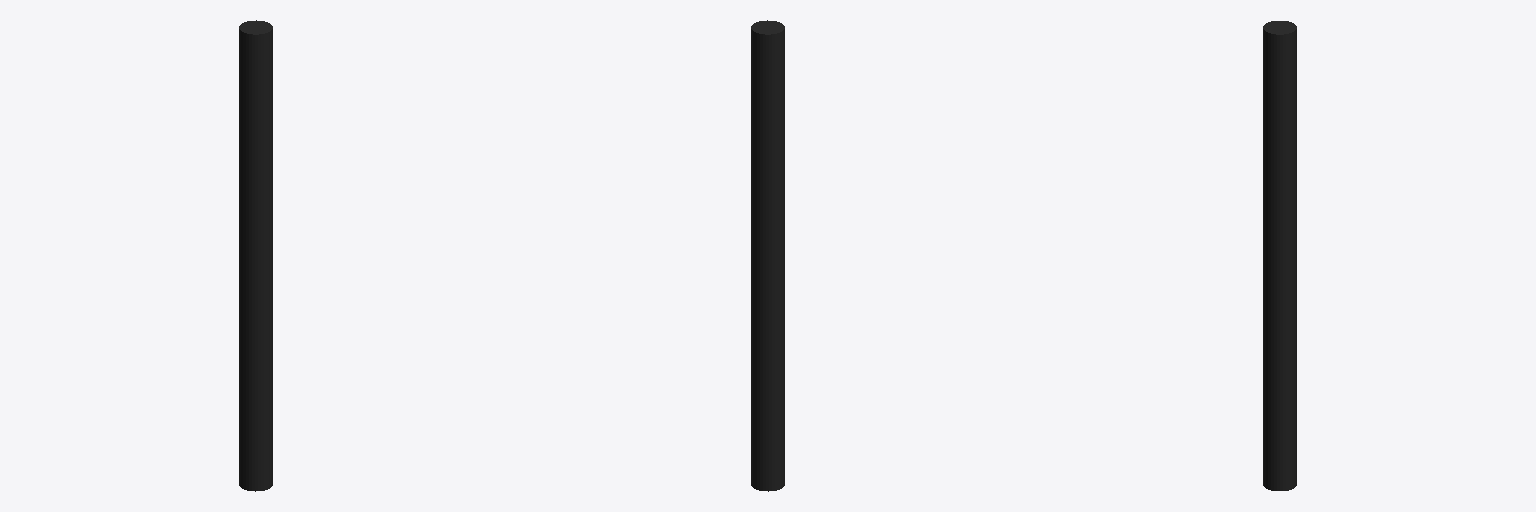
URDF robot description (lbr_iiwa):
<?xml version="1.0" ?>
<!-- ======================================================================= -->
<!-- | This document was autogenerated by xacro from lbr_iiwa.urdf.xacro   | -->
<!-- | Original xacro: https://github.com/rtkg/lbr_iiwa/archive/master.zip | -->
<!-- | EDITING THIS FILE BY HAND IS NOT RECOMMENDED                        | -->
<!-- | Changes ([author]):                                                 | -->
<!-- |   * Removed gazebo tags.                                            | -->
<!-- |   * Removed unused materials.                                       | -->
<!-- |   * Made mesh paths relative.                                       | -->
<!-- |   * Removed material fields from collision segments.                | -->
<!-- |   * Removed the self_collision_checking segment.                    | -->
<!-- |   * Removed transmission segments, since they didn't match the      | -->
<!-- |     convention, will have to added back later.                      | -->
<!-- ======================================================================= -->
<!--LICENSE:                                                                 -->
<!--Copyright (c) 2015, [author] & [author], AASS Research Center,  -->
<!--Orebro University, Sweden                                                -->
<!--All rights reserved.                                                     -->
<!--                                                                         -->
<!--Redistribution and use in source and binary forms, with or without       -->
<!--modification, are permitted provided that the following conditions are   -->
<!--met:                                                                     -->
<!--                                                                         -->
<!--1. Redistributions of source code must retain the above copyright notice,-->
<!--   this list of conditions and the following disclaimer.                 -->
<!--                                                                         -->
<!--2. Redistributions in binary form must reproduce the above copyright     -->
<!--   notice, this list of conditions and the following disclaimer in the   -->
<!--   documentation and/or other materials provided with the distribution.  -->
<!--                                                                         -->
<!--THIS SOFTWARE IS PROVIDED BY THE COPYRIGHT [author] "AS  -->
<!--IS" AND ANY EXPRESS OR IMPLIED WARRANTIES, INCLUDING, BUT NOT LIMITED TO,-->
<!--THE IMPLIED WARRANTIES OF MERCHANTABILITY AND FITNESS FOR A PARTICULAR   -->
<!--PURPOSE ARE DISCLAIMED. IN NO EVENT SHALL THE COPYRIGHT [author]        -->
<!--CONTRIBUTORS BE LIABLE FOR ANY DIRECT, INDIRECT, INCIDENTAL, SPECIAL,    -->
<!--EXEMPLARY, OR CONSEQUENTIAL DAMAGES (INCLUDING, BUT NOT LIMITED TO,      -->
<!--PROCUREMENT OF SUBSTITUTE GOODS OR SERVICES; LOSS OF USE, DATA, OR       -->
<!--PROFITS; OR BUSINESS INTERRUPTION) HOWEVER CAUSED AND ON ANY THEORY OF   -->
<!--LIABILITY, WHETHER IN CONTRACT, STRICT LIABILITY, OR TORT (INCLUDING     -->
<!--NEGLIGENCE OR OTHERWISE) ARISING IN ANY WAY OUT OF THE USE OF THIS       -->
<!--SOFTWARE, EVEN IF ADVISED OF THE POSSIBILITY OF SUCH DAMAGE.             -->
<robot name="lbr_iiwa" xmlns:xacro="http://www.ros.org/wiki/xacro">
  <!-- Import Rviz colors -->
  <material name="Grey">
    <color rgba="0.2 0.2 0.2 1.0"/>
  </material>
  <material name="Orange">
    <color rgba="1.0 0.423529411765 0.0392156862745 1.0"/>
  </material>
  <material name="Blue">
  <color rgba="0.5 0.7 1.0 1.0"/>
</material>

  <!--Import the lbr iiwa macro -->
  <!--Import Transmissions -->
  <!--Include Utilities -->
  <!--The following macros are adapted from the LWR 4 definitions of the RCPRG - https://github.com/RCPRG-ros-pkg/lwr_robot -->
  <!--Little helper macros to define the inertia matrix needed for links.-->
  <!--Cuboid-->
  <!--Cylinder: length is along the y-axis! -->
  <!--lbr-->
  <link name="lbr_iiwa_link_0">
    <inertial>
      <origin rpy="0 0 0" xyz="-0.1 0 0.07"/>
      <!--Increase mass from 5 Kg original to provide a stable base to carry the
          arm.-->
      <mass value="0.0"/>
      <inertia ixx="0.05" ixy="0" ixz="0" iyy="0.06" iyz="0" izz="0.03"/>
    </inertial>
    <visual>
      <origin rpy="0 0 0" xyz="0 0 0"/>
      <geometry>
        <mesh filename="meshes/link_0.obj"/>
      </geometry>
      <material name="Grey"/>
    </visual>
    <collision>
      <origin rpy="0 0 0" xyz="0 0 0"/>
      <geometry>
        <mesh filename="meshes/link_0.stl"/>
      </geometry>
    </collision>
  </link>
  <!-- joint between link_0 and link_1 -->
  <joint name="lbr_iiwa_joint_1" type="revolute">
    <parent link="lbr_iiwa_link_0"/>
    <child link="lbr_iiwa_link_1"/>
    <origin rpy="0 0 0" xyz="0 0 0.1575"/>
    <axis xyz="0 0 1"/>
    <limit effort="300" lower="-2.96705972839" upper="2.96705972839" velocity="10"/>
    <dynamics damping="0.5"/>
  </joint>
  <link name="lbr_iiwa_link_1">
    <inertial>
      <origin rpy="0 0 0" xyz="0 -0.03 0.12"/>
      <mass value="4"/>
      <inertia ixx="0.1" ixy="0" ixz="0" iyy="0.09" iyz="0" izz="0.02"/>
    </inertial>
    <visual>
      <origin rpy="0 0 0" xyz="0 0 0"/>
      <geometry>
        <mesh filename="meshes/link_1.obj"/>
      </geometry>
      <material name="Blue"/>
    </visual>
    <collision>
      <origin rpy="0 0 0" xyz="0 0 0"/>
      <geometry>
        <mesh filename="meshes/link_1.stl"/>
      </geometry>
    </collision>
  </link>
  <!-- joint between link_1 and link_2 -->
  <joint name="lbr_iiwa_joint_2" type="revolute">
    <parent link="lbr_iiwa_link_1"/>
    <child link="lbr_iiwa_link_2"/>
    <origin rpy="1.57079632679   0 3.14159265359" xyz="0 0 0.2025"/>
    <axis xyz="0 0 1"/>
    <limit effort="300" lower="-2.09439510239" upper="2.09439510239" velocity="10"/>
    <dynamics damping="0.5"/>
  </joint>
  <link name="lbr_iiwa_link_2">
    <inertial>
      <origin rpy="0 0 0" xyz="0.0003 0.059 0.042"/>
      <mass value="4"/>
      <inertia ixx="0.05" ixy="0" ixz="0" iyy="0.018" iyz="0" izz="0.044"/>
    </inertial>
    <visual>
      <origin rpy="0 0 0" xyz="0 0 0"/>
      <geometry>
        <mesh filename="meshes/link_2.obj"/>
      </geometry>
      <material name="Blue"/>
    </visual>
    <collision>
      <origin rpy="0 0 0" xyz="0 0 0"/>
      <geometry>
        <mesh filename="meshes/link_2.stl"/>
      </geometry>
    </collision>
  </link>
  <!-- joint between link_2 and link_3 -->
  <joint name="lbr_iiwa_joint_3" type="revolute">
    <parent link="lbr_iiwa_link_2"/>
    <child link="lbr_iiwa_link_3"/>
    <origin rpy="1.57079632679 0 3.14159265359" xyz="0 0.2045 0"/>
    <axis xyz="0 0 1"/>
    <limit effort="300" lower="-2.96705972839" upper="2.96705972839" velocity="10"/>
    <dynamics damping="0.5"/>
  </joint>
  <link name="lbr_iiwa_link_3">
    <inertial>
      <origin rpy="0 0 0" xyz="0 0.03 0.13"/>
      <mass value="3"/>
      <inertia ixx="0.08" ixy="0" ixz="0" iyy="0.075" iyz="0" izz="0.01"/>
    </inertial>
    <visual>
      <origin rpy="0 0 0" xyz="0 0 0"/>
      <geometry>
        <mesh filename="meshes/link_3.obj"/>
      </geometry>
      <material name="Orange"/>
    </visual>
    <collision>
      <origin rpy="0 0 0" xyz="0 0 0"/>
      <geometry>
        <mesh filename="meshes/link_3.stl"/>
      </geometry>
    </collision>
  </link>
  <!-- joint between link_3 and link_4 -->
  <joint name="lbr_iiwa_joint_4" type="revolute">
    <parent link="lbr_iiwa_link_3"/>
    <child link="lbr_iiwa_link_4"/>
    <origin rpy="1.57079632679 0 0" xyz="0 0 0.2155"/>
    <axis xyz="0 0 1"/>
    <limit effort="300" lower="-2.09439510239" upper="2.09439510239" velocity="10"/>
    <dynamics damping="0.5"/>
  </joint>
  <link name="lbr_iiwa_link_4">
    <inertial>
      <origin rpy="0 0 0" xyz="0 0.067 0.034"/>
      <mass value="2.7"/>
      <inertia ixx="0.03" ixy="0" ixz="0" iyy="0.01" iyz="0" izz="0.029"/>
    </inertial>
    <visual>
      <origin rpy="0 0 0" xyz="0 0 0"/>
      <geometry>
        <mesh filename="meshes/link_4.obj"/>
      </geometry>
      <material name="Blue"/>
    </visual>
    <collision>
      <origin rpy="0 0 0" xyz="0 0 0"/>
      <geometry>
        <mesh filename="meshes/link_4.stl"/>
      </geometry>
    </collision>
  </link>
  <!-- joint between link_4 and link_5 -->
  <joint name="lbr_iiwa_joint_5" type="revolute">
    <parent link="lbr_iiwa_link_4"/>
    <child link="lbr_iiwa_link_5"/>
    <origin rpy="-1.57079632679 3.14159265359 0" xyz="0 0.1845 0"/>
    <axis xyz="0 0 1"/>
    <limit effort="300" lower="-2.96705972839" upper="2.96705972839" velocity="10"/>
    <dynamics damping="0.5"/>
  </joint>
  <link name="lbr_iiwa_link_5">
    <inertial>
      <origin rpy="0 0 0" xyz="0.0001 0.021 0.076"/>
      <mass value="1.7"/>
      <inertia ixx="0.02" ixy="0" ixz="0" iyy="0.018" iyz="0" izz="0.005"/>
    </inertial>
    <visual>
      <origin rpy="0 0 0" xyz="0 0 0"/>
      <geometry>
        <mesh filename="meshes/link_5.obj"/>
      </geometry>
      <material name="Blue"/>
    </visual>
    <collision>
      <origin rpy="0 0 0" xyz="0 0 0"/>
      <geometry>
        <mesh filename="meshes/link_5.stl"/>
      </geometry>
    </collision>
  </link>
  <!-- joint between link_5 and link_6 -->
  <joint name="lbr_iiwa_joint_6" type="revolute">
    <parent link="lbr_iiwa_link_5"/>
    <child link="lbr_iiwa_link_6"/>
    <origin rpy="1.57079632679 0 0" xyz="0 0 0.2155"/>
    <axis xyz="0 0 1"/>
    <limit effort="300" lower="-2.09439510239" upper="2.09439510239" velocity="10"/>
    <dynamics damping="0.5"/>
  </joint>
  <link name="lbr_iiwa_link_6">
    <inertial>
      <origin rpy="0 0 0" xyz="0 0.0006 0.0004"/>
      <mass value="1.8"/>
      <inertia ixx="0.005" ixy="0" ixz="0" iyy="0.0036" iyz="0" izz="0.0047"/>
    </inertial>
    <visual>
      <origin rpy="0 0 0" xyz="0 0 0"/>
      <geometry>
        <mesh filename="meshes/link_6.obj"/>
      </geometry>
      <material name="Orange"/>
    </visual>
    <collision>
      <origin rpy="0 0 0" xyz="0 0 0"/>
      <geometry>
        <mesh filename="meshes/link_6.stl"/>
      </geometry>
    </collision>
  </link>
  <!-- joint between link_6 and link_7 -->
  <joint name="lbr_iiwa_joint_7" type="revolute">
    <parent link="lbr_iiwa_link_6"/>
    <child link="lbr_iiwa_link_7"/>
    <origin rpy="-1.57079632679 3.14159265359 0" xyz="0 0.081 0"/>
    <axis xyz="0 0 1"/>
    <limit effort="300" lower="-3.05432619099" upper="3.05432619099" velocity="10"/>
    <dynamics damping="0.5"/>
  </joint>
  <link name="lbr_iiwa_link_7">
    <inertial>
      <origin rpy="0 0 0" xyz="0 0 0.02"/>
      <mass value="0.3"/>
      <inertia ixx="0.001" ixy="0" ixz="0" iyy="0.001" iyz="0" izz="0.001"/>
    </inertial>
    <visual>
      <origin rpy="0 0 0" xyz="0 0 0"/>
      <geometry>
        <mesh filename="meshes/link_7.obj"/>
      </geometry>
      <material name="Grey"/>
    </visual>
    <collision>
      <origin rpy="0 0 0" xyz="0 0 0"/>
      <geometry>
        <mesh filename="meshes/link_7.stl"/>
      </geometry>
    </collision>
  </link>

  <!-- joint between link_6 and link_7 -->
  <joint name="lbr_iiwa_pusher" type="fixed">
    <parent link="lbr_iiwa_link_7"/>
    <child link="pusher"/>
    <origin rpy="0 0 0" xyz="0 0 0"/>
  </joint>
  <link name="pusher">
    <inertial>
      <origin rpy="0 0 0" xyz="0 0 0"/>
      <mass value="0.3"/>
      <inertia ixx="0.001" ixy="0" ixz="0" iyy="0.001" iyz="0" izz="0.001"/>
    </inertial>
    <visual>
      <origin rpy="0 0 0" xyz="0 0 0"/>
      <geometry>
        <cylinder length="0.3" radius="0.01"/>
      </geometry>
      <material name="Grey"/>
    </visual>
    <collision>
      <origin rpy="0 0 0" xyz="0 0 0"/>
      <geometry>
        <cylinder length="0.3" radius="0.01"/>
      </geometry>
    </collision>
  </link>



</robot>

--- What the picture shows (computed from the rendered views, not written in the file) ---
Views: 3 orthographic renders of the robot side by side, from view 1: azimuth 30°, elevation 25°; view 2: azimuth 150°, elevation 25°; view 3: azimuth 270°, elevation 25°.
Model lbr_iiwa with 9 links and 8 joints (7 revolute, 1 fixed), rooted at lbr_iiwa_link_0, posed all joints at 0.
Links seen in each view (by area): view 1: pusher; view 2: pusher; view 3: pusher.
Boxes of the visible links, x1,y1,x2,y2 form: pusher: (239,20,272,491); pusher: (751,20,784,491); pusher: (1263,21,1296,490).
Bounding box of the posed robot: 0.02 × 0.02 × 0.3 m (x, y, z).
Meshes: 8 distinct files referenced, 0 mesh visuals loaded (none loaded); not drawn: 8 (reference not matched to a file when rendering).